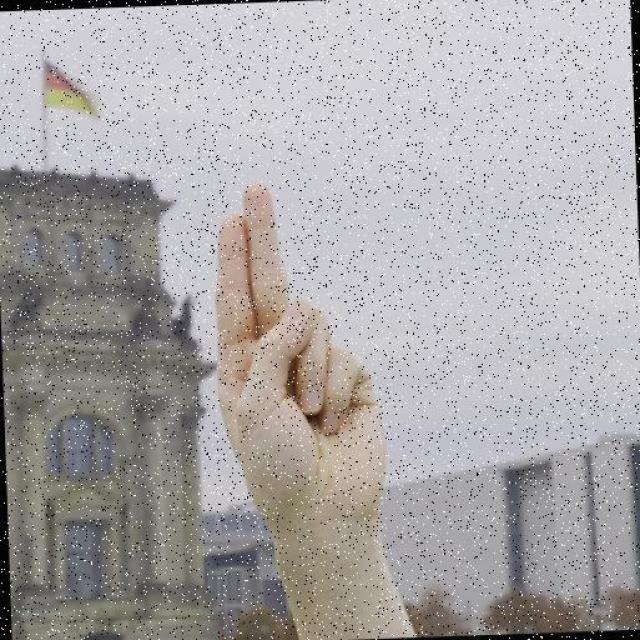U: (205, 174, 400, 527)
